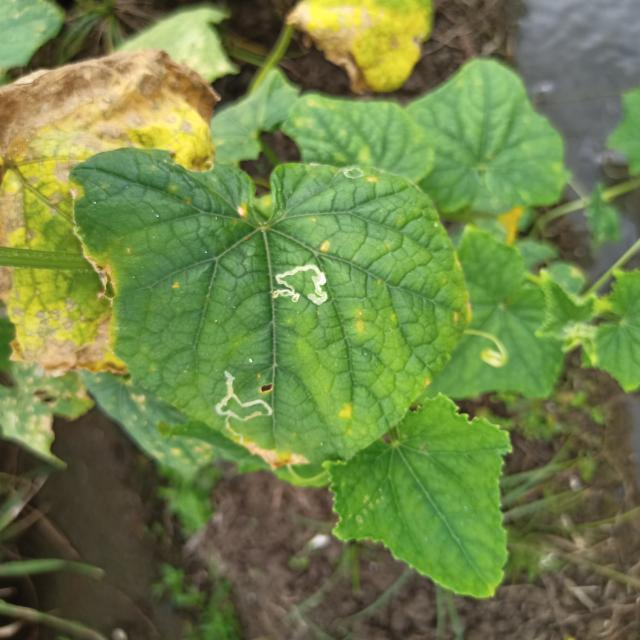disease_cucumber: (454, 295, 476, 329), (339, 404, 355, 438), (354, 309, 366, 336), (236, 200, 248, 222), (319, 239, 331, 256), (171, 280, 181, 292), (367, 176, 377, 185)
